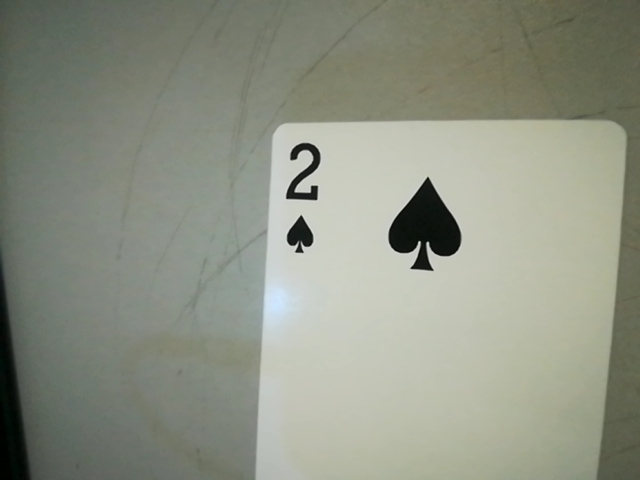ht 2: (272, 131, 337, 263)
